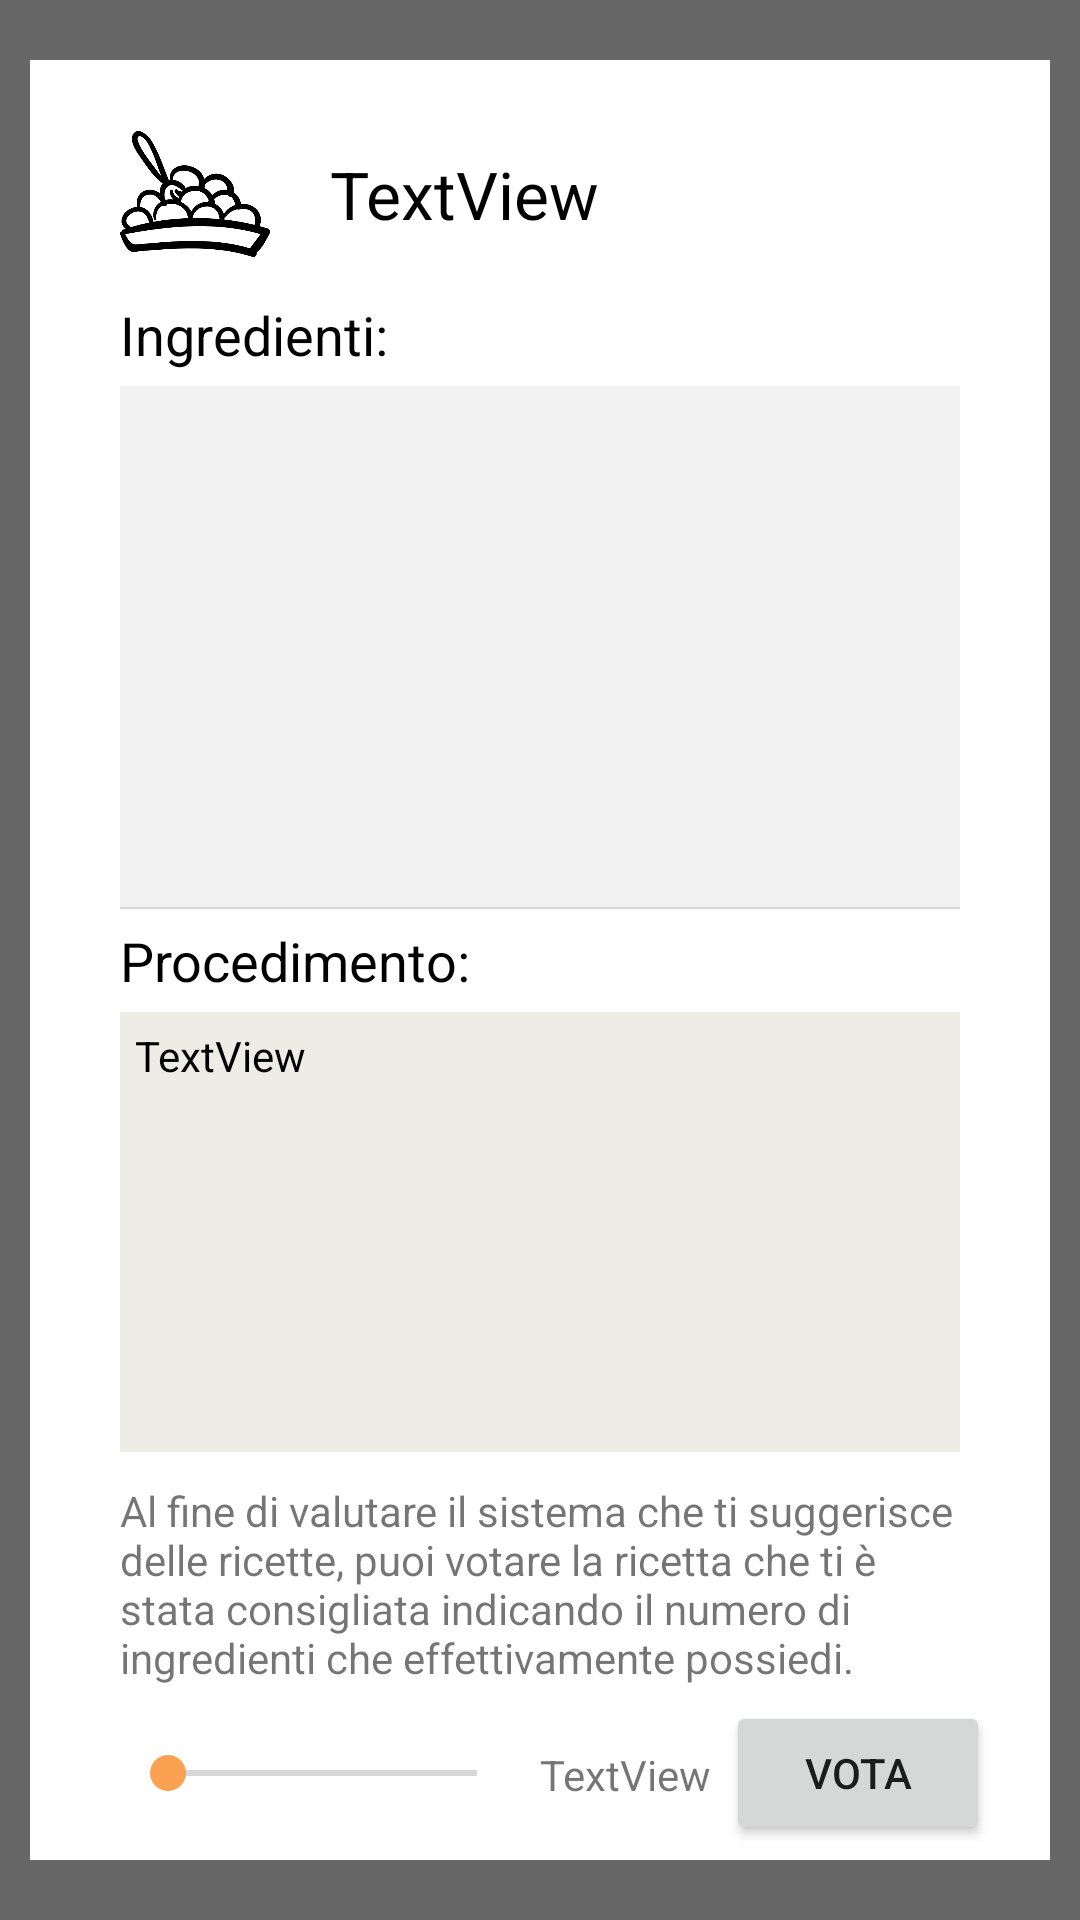

Named icons in this screenshot (1080 x 1920) and their bounding boxes, BBox(x1, y1, x2, y2):
apetizer: BBox(120, 131, 270, 257)
